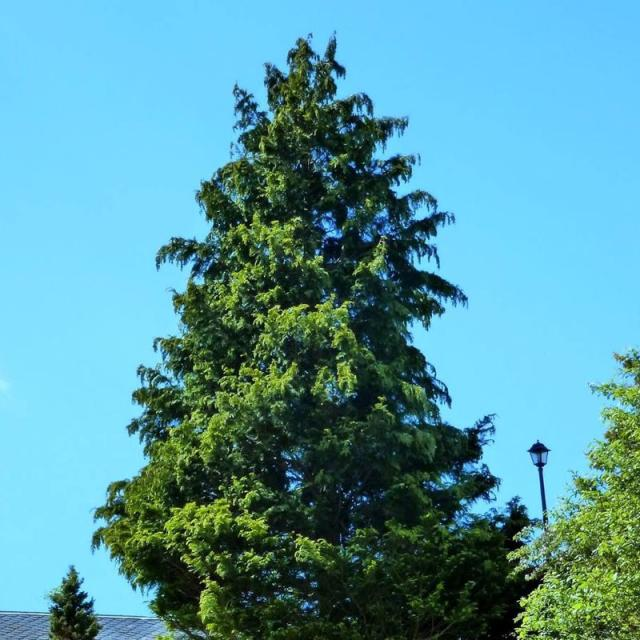cedro: (94, 25, 543, 639)
